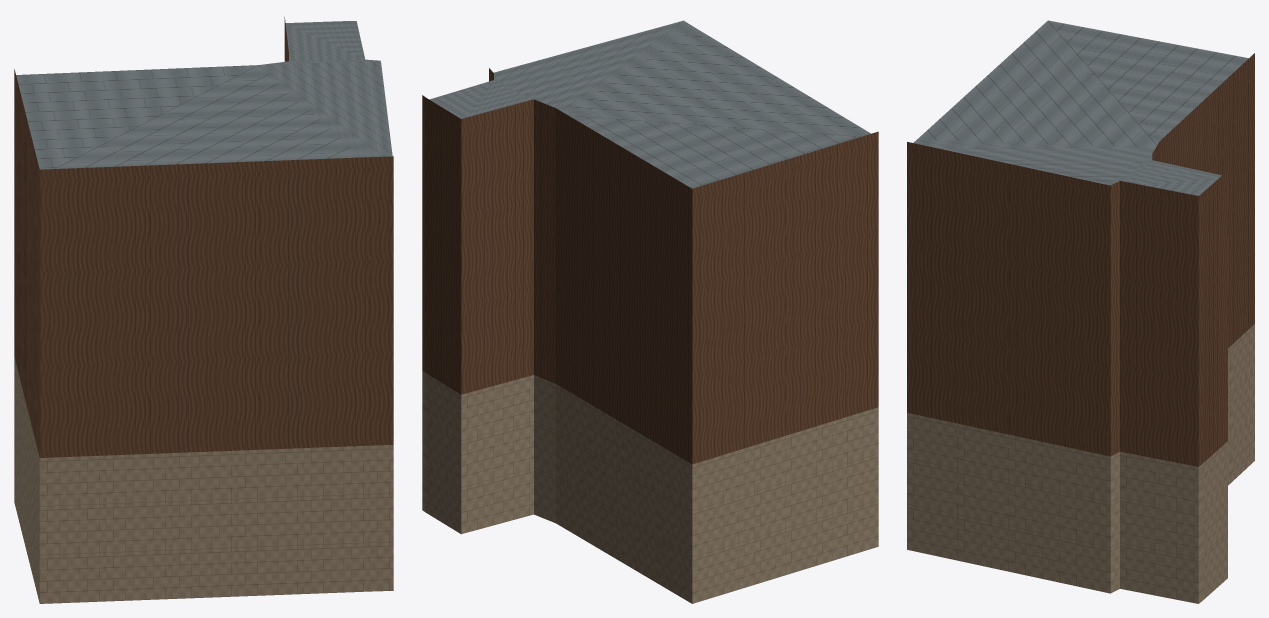
File: bld_c-22_12_549.gltf
The picture shows the model from 3 angles, left to right: view 1: azimuth 30°, elevation 25°; view 2: azimuth 150°, elevation 25°; view 3: azimuth 270°, elevation 25°; orthographic projection. The views are drawn at different scales.
Visible parts, largest first — view 1: bld_c-22_12_549; view 2: bld_c-22_12_549; view 3: bld_c-22_12_549.
Boxes of the visible parts, <box> form: bld_c-22_12_549: <box>14,17,393,603</box>; bld_c-22_12_549: <box>422,20,878,603</box>; bld_c-22_12_549: <box>907,20,1254,603</box>.
Size of the model in its own units: 14.52 by 15.18 by 11.73.
Materials: 4 (4 with a texture image).
